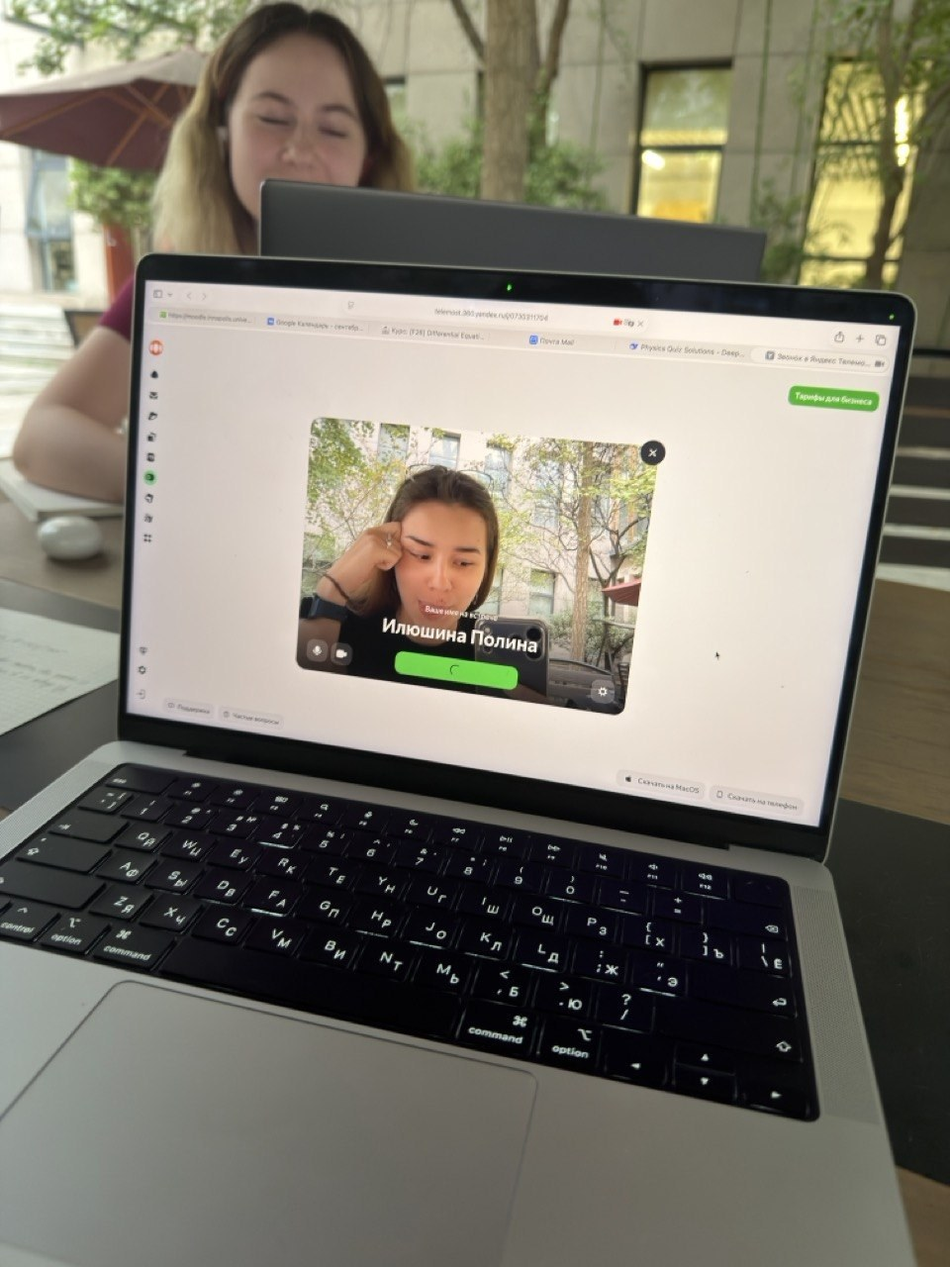cell phone: (472, 615, 550, 695)
laptop: (1, 250, 920, 1264), (258, 178, 768, 283)
